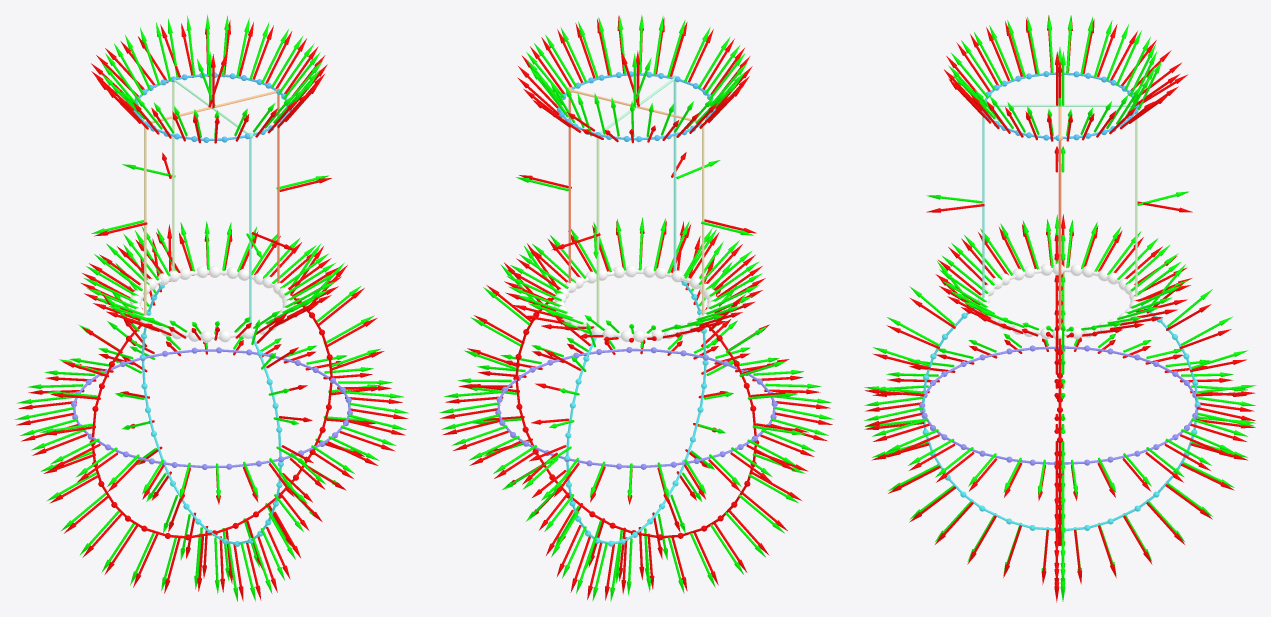
Rendered from flowrep_spherecylinder.gltf.
3 views of the same model, side by side, from view 1: azimuth 30°, elevation 25°; view 2: azimuth 150°, elevation 25°; view 3: azimuth 270°, elevation 25° (orthographic).
Bounding box in the file's own units: 0.6461 × 0.9663 × 0.646.
